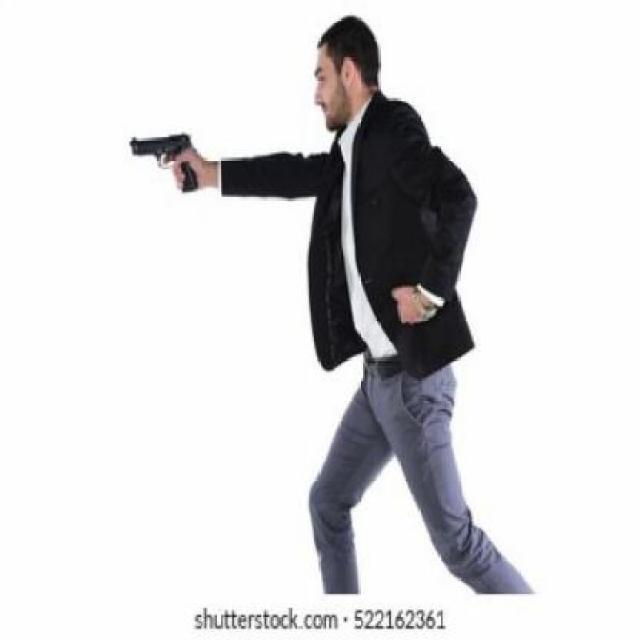gun: (132, 134, 202, 194)
